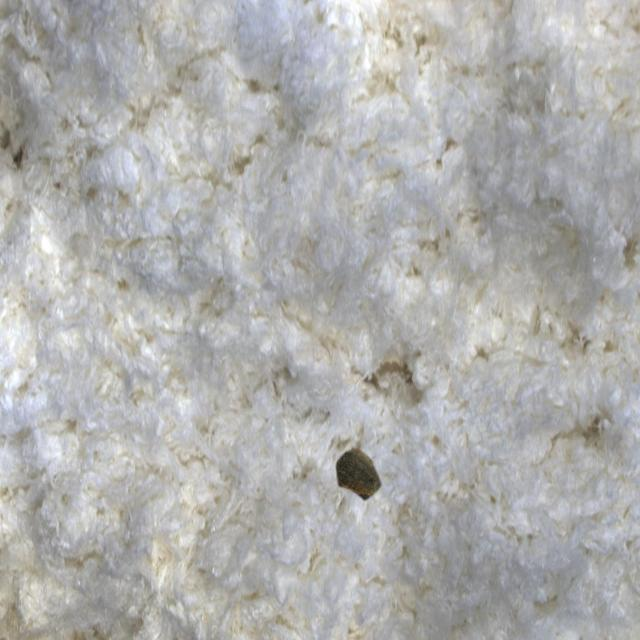dust: (323, 421, 406, 534)
